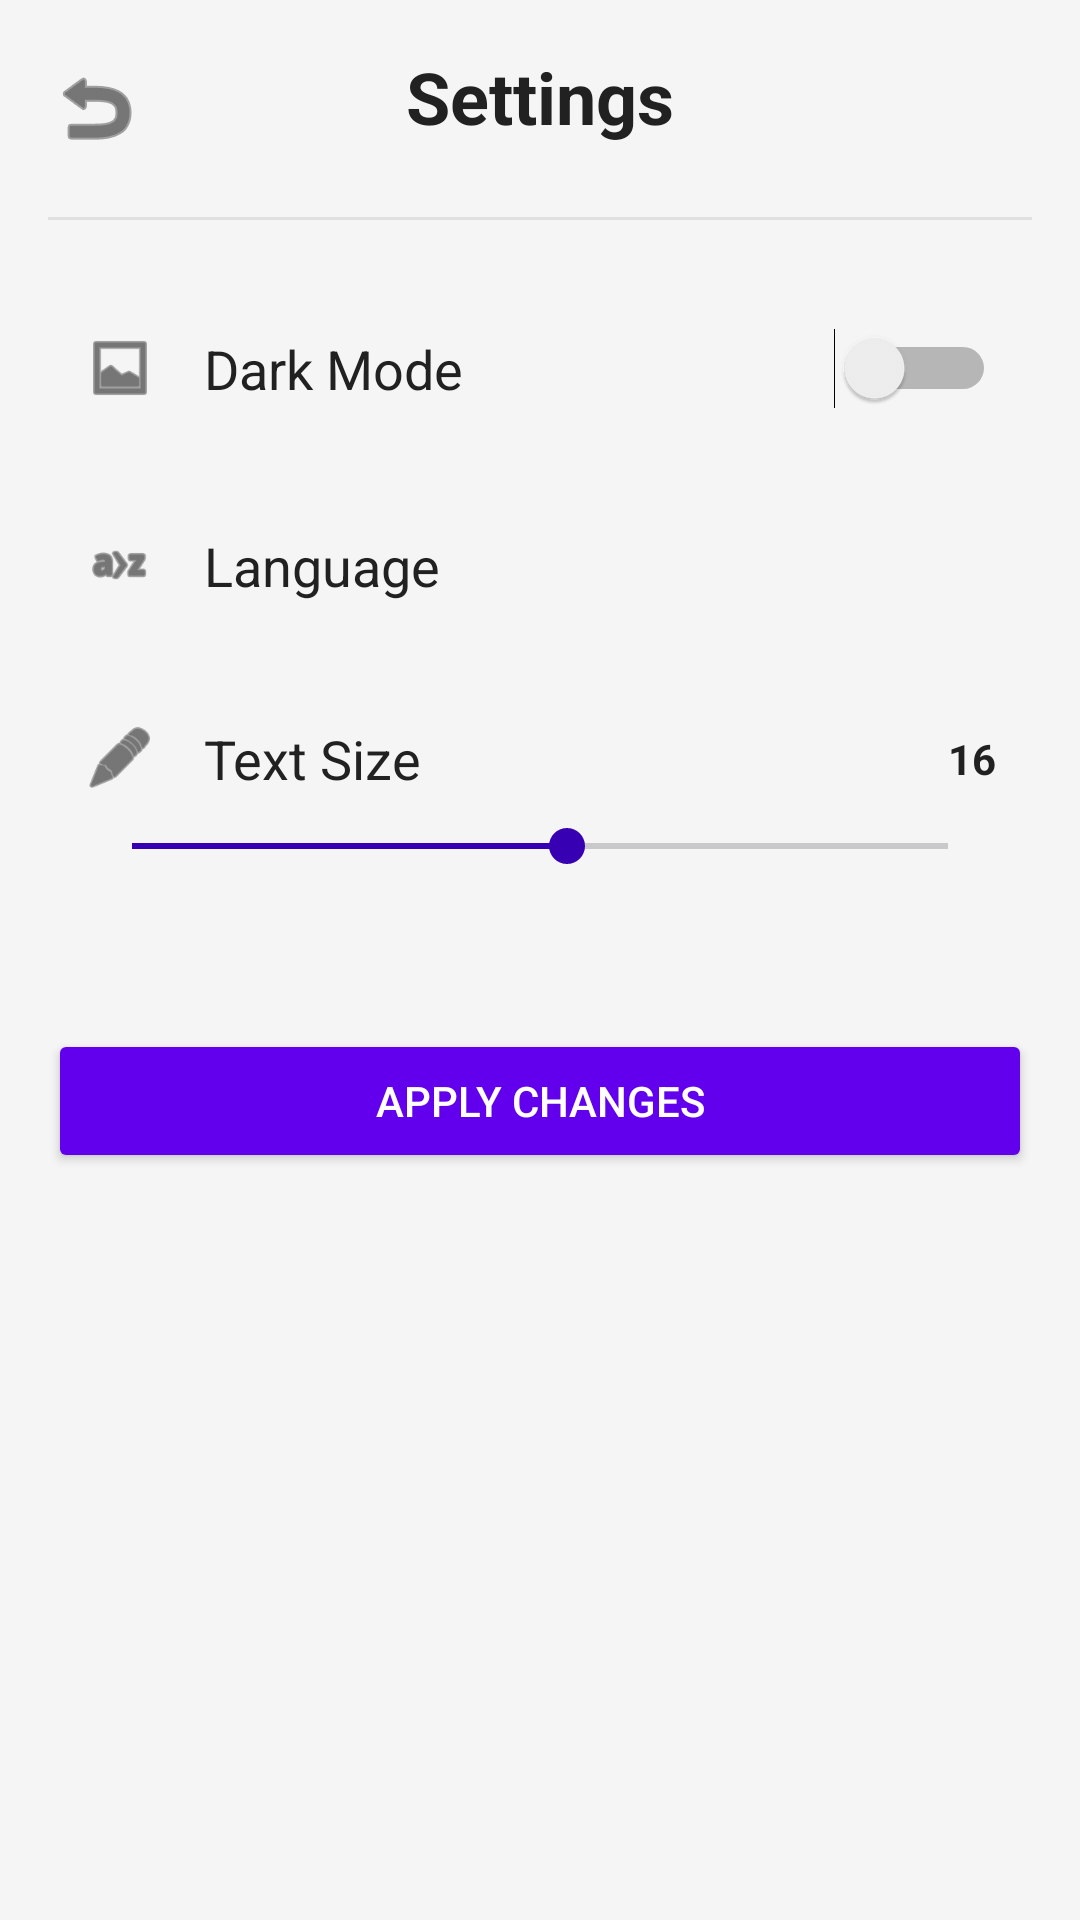

Where to tap for icons on this 1080 × 1920 app screen, as [x,y]:
Back: [97,108]
